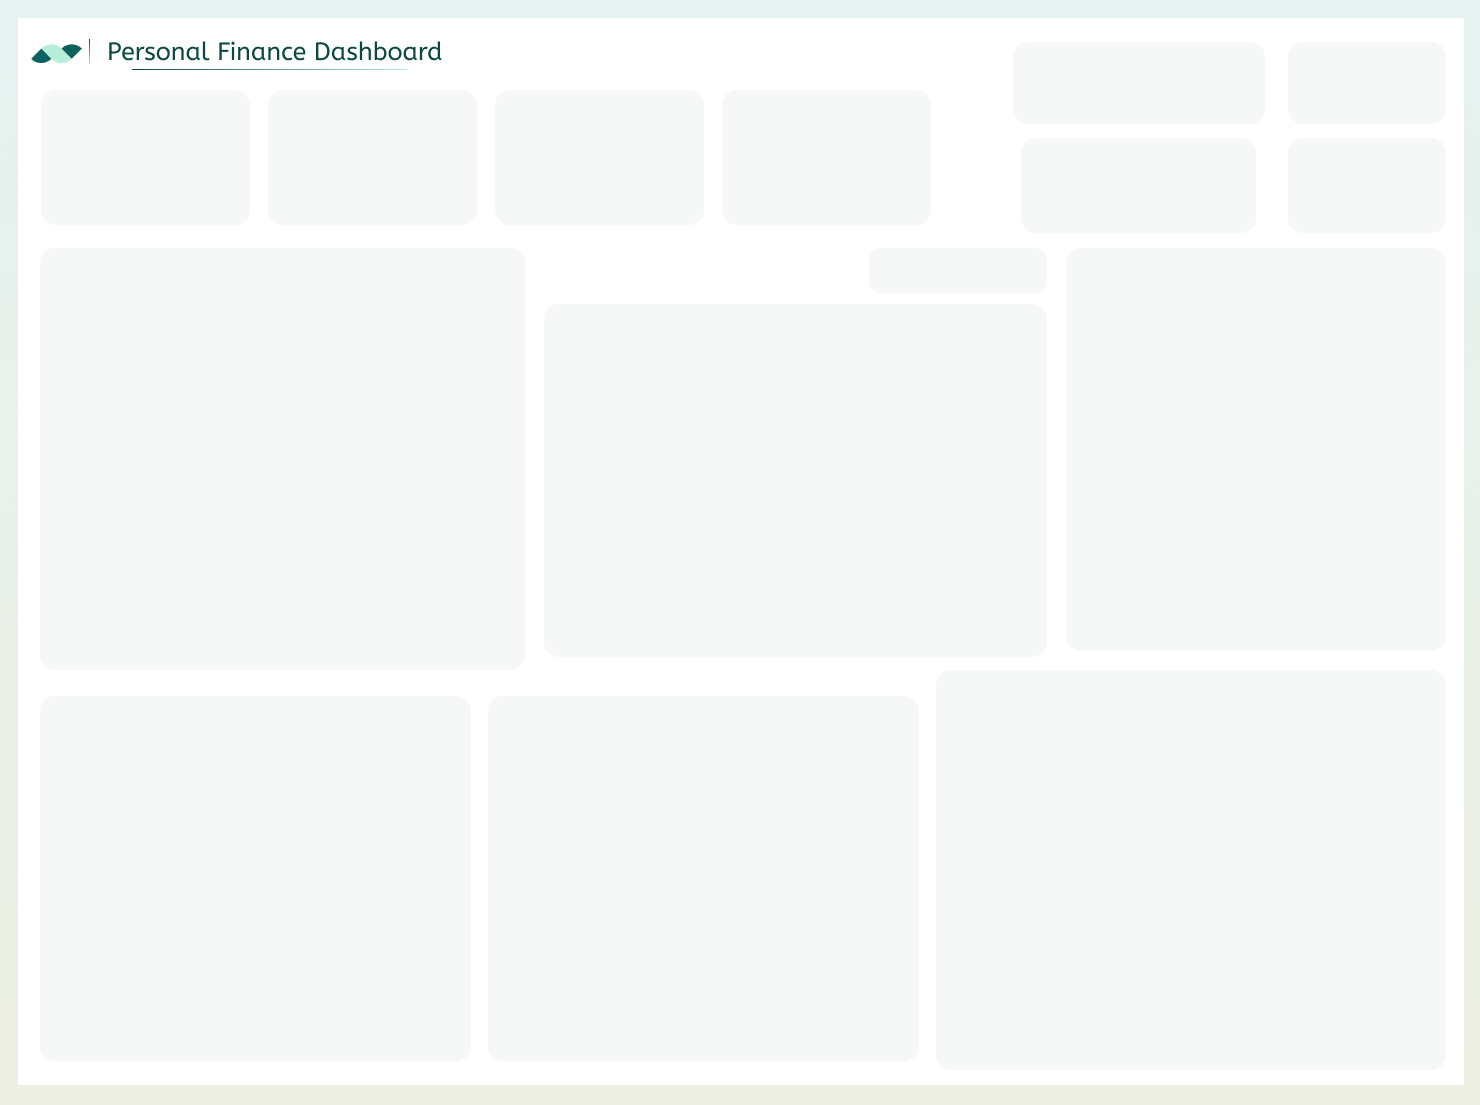

What the dashboard file says about the page in this screenshot:
{"tool":"powerbi","page":{"name":"Dashboard","canvas":[1480,1105],"ordinal":0},"visuals":[{"type":"donutChart","title":"Top 5 Location By Cost","fields":{"Y":["CountNonNull(df.COST)"],"Category":["df.LOCATION"]},"box":[493.6,702.9,418.6,353.6],"z":0},{"type":"card","fields":{"Values":["Sum(df.COST)"]},"box":[39.5,95,213,126],"z":1000},{"type":"donutChart","title":"Expence Ratio","fields":{"Category":["df.IsWeekEnd"],"Y":["Sum(df.COST)"]},"box":[44.2,702.5,418.3,353.3],"z":2000},{"type":"lineChart","fields":{"Category":["df.DATE.Variation.Date Hierarchy.Month"],"Y":["Sum(df.COST)"]},"box":[544.3,307,502.2,349.1],"z":3000},{"type":"advancedSlicerVisual","fields":{"Values":["Parameter.Parameter"]},"box":[868.3,245.8,178.3,46.7],"z":4000},{"type":"treemap","title":"Category Wise Total Cost","fields":{"Group":["Expence Category.Category"],"Values":["Sum(df.COST)"]},"box":[938.6,672.9,505,396.4],"z":5000},{"type":"slicer","fields":{"Values":["df.Withot Rent"]},"box":[1289.1,50,151.8,66.4],"z":6000},{"type":"pivotTable","fields":{"Rows":["df.DATE.Variation.Date Hierarchy.Month"],"Columns":["df.Year"],"Values":["Sum(df.COST)"]},"box":[1075,253,373,403],"z":7000},{"type":"pivotTable","fields":{"Rows":["df.ITEM"],"Columns":["df.DATE.Variation.Date Hierarchy.Year"],"Values":["Sum(df.COST)"]},"box":[44,253.3,477.3,414],"z":8000},{"type":"card","fields":{"Values":["df.Monthly Avg"]},"box":[496,88.7,206.7,136.7],"z":9000},{"type":"advancedSlicerVisual","fields":{"Values":["df.DATE.Variation.Date Hierarchy.Year"]},"box":[1013.3,44,248,80],"z":10000},{"type":"card","fields":{"Values":["df.Measure"]},"box":[720,89,212,137],"z":11000},{"type":"card","fields":{"Values":["df.Monthly Avg Cost"]},"box":[268.7,90.7,210,134.7],"z":12000},{"type":"slicer","fields":{"Values":["df.DATE"]},"box":[1021.1,138.9,230.6,91.7],"z":13000},{"type":"slicer","fields":{"Values":["df.DATE.Variation.Date Hierarchy.Month"]},"box":[1288.3,148.9,155,72.2],"z":14000}]}

Visuals, with their boxes in screenshot pixels (x1, y1, x2, y2), scaled from the page's 1480x1105 canvas onto the 1480x1105 screenshot:
"Top 5 Location By Cost" donutChart: (494, 703, 912, 1056)
card - Sum(df.COST): (40, 95, 252, 221)
"Expence Ratio" donutChart: (44, 702, 462, 1056)
lineChart - df.DATE.Variation.Date Hierarchy.Month x Sum(df.COST): (544, 307, 1046, 656)
advancedSlicerVisual - Parameter.Parameter: (868, 246, 1047, 292)
"Category Wise Total Cost" treemap: (939, 673, 1444, 1069)
slicer - df.Withot Rent: (1289, 50, 1441, 116)
pivotTable - df.DATE.Variation.Date Hierarchy.Month x df.Year: (1075, 253, 1448, 656)
pivotTable - df.ITEM x df.DATE.Variation.Date Hierarchy.Year: (44, 253, 521, 667)
card - df.Monthly Avg: (496, 89, 703, 225)
advancedSlicerVisual - df.DATE.Variation.Date Hierarchy.Year: (1013, 44, 1261, 124)
card - df.Measure: (720, 89, 932, 226)
card - df.Monthly Avg Cost: (269, 91, 479, 225)
slicer - df.DATE: (1021, 139, 1252, 231)
slicer - df.DATE.Variation.Date Hierarchy.Month: (1288, 149, 1443, 221)
